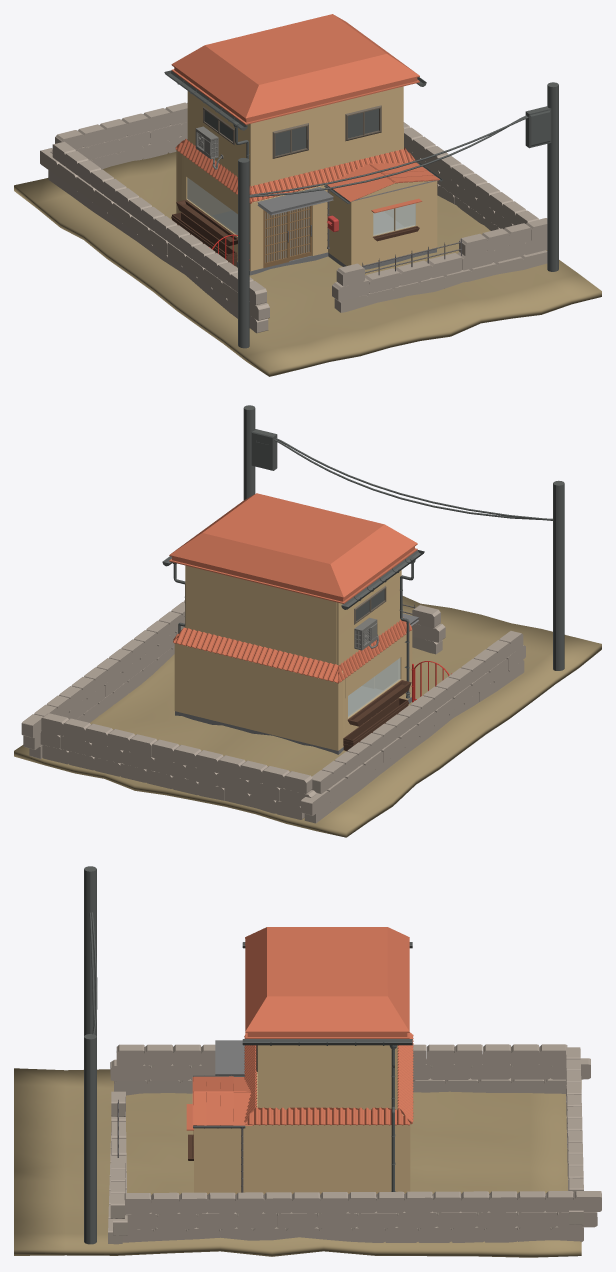
Rendered from house.fbx.
3 renders of one model, top to bottom at view 1: azimuth 30°, elevation 25°; view 2: azimuth 150°, elevation 25°; view 3: azimuth 270°, elevation 25°, orthographic. The views are drawn at different scales.
Visible parts, largest first — view 1: DirtFloorGround, CementWall, Roof, FrontWall.019, FrontWindowWall, LeftWall, FrontSmallRoof, ElectricPost, ElectricPost.001, RoofTilesFront, LeftWallGround, FrontDoorWall (+16 smaller); view 2: CementWall, DirtFloorGround, Roof, BackWallGround, BackWall2Floor, RoofTilesBack, LeftWall, ElectricPost, LeftWallGround, RoofTilesLeft, LeftLongWindow, ElectricPost.001 (+8 smaller); view 3: DirtFloorGround, CementWall, Roof, RightOutsideWall, RightWindow, FrontSmallRoof, ElectricPost.001, RoofTilesRight, ElectricPost, RoofTilesBack, RainDrain.002, FrontDoorCover (+2 smaller).
Boxes of the visible parts, box(x1,y1,x2,y2) form: DirtFloorGround: box(14, 152, 601, 376); CementWall: box(40, 102, 547, 333); Roof: box(171, 14, 419, 124); FrontWall.019: box(252, 87, 401, 185); FrontWindowWall: box(354, 181, 434, 266); LeftWall: box(187, 91, 252, 186); FrontSmallRoof: box(327, 162, 439, 201); ElectricPost: box(238, 158, 249, 348); ElectricPost.001: box(547, 82, 558, 271); RoofTilesFront: box(251, 149, 412, 202); LeftWallGround: box(184, 156, 252, 271); FrontDoorWall: box(252, 184, 327, 270); CementWall: box(21, 600, 525, 823); DirtFloorGround: box(14, 596, 601, 837); Roof: box(169, 493, 417, 603); BackWallGround: box(174, 643, 345, 750); BackWall2Floor: box(187, 566, 336, 664); RoofTilesBack: box(173, 628, 338, 683); LeftWall: box(336, 570, 401, 665); ElectricPost: box(553, 480, 564, 670); LeftWallGround: box(345, 630, 412, 736); RoofTilesLeft: box(338, 617, 412, 683); LeftLongWindow: box(348, 658, 400, 717); ElectricPost.001: box(243, 405, 255, 500); DirtFloorGround: box(14, 1068, 581, 1257); CementWall: box(108, 1044, 601, 1244); Roof: box(245, 927, 409, 1038); RightOutsideWall: box(194, 1125, 410, 1194); RightWindow: box(257, 1045, 397, 1110); FrontSmallRoof: box(192, 1076, 252, 1125); ElectricPost.001: box(84, 1034, 96, 1244); RoofTilesRight: box(245, 1107, 410, 1125); ElectricPost: box(84, 866, 96, 1036); RoofTilesBack: box(397, 1032, 413, 1124); RainDrain.002: box(242, 1039, 412, 1045); FrontDoorCover: box(215, 1040, 244, 1075).
Bounding box in the file's own units: 2043 × 1146 × 2816.
